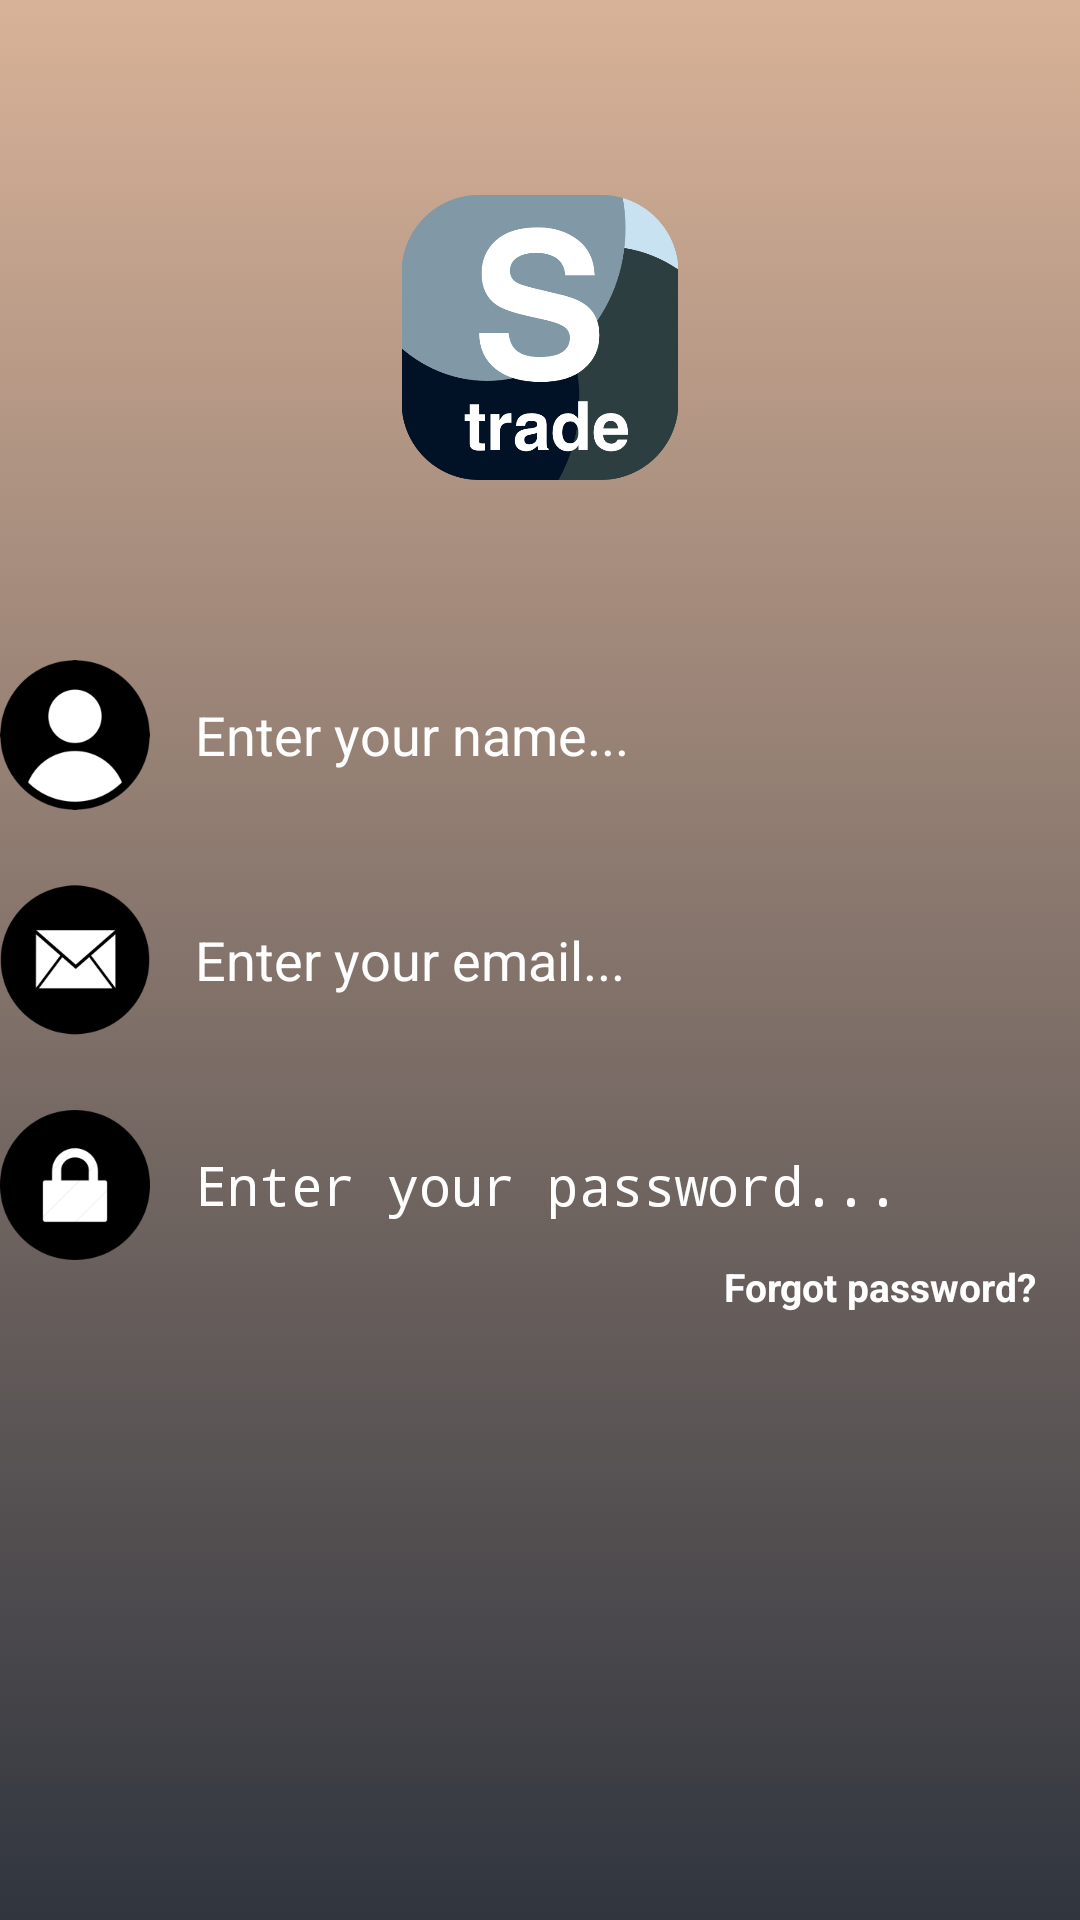

Screen size 1080 x 1920. Icon name, then its center in pixels as (x,y):
username: (75,735)
